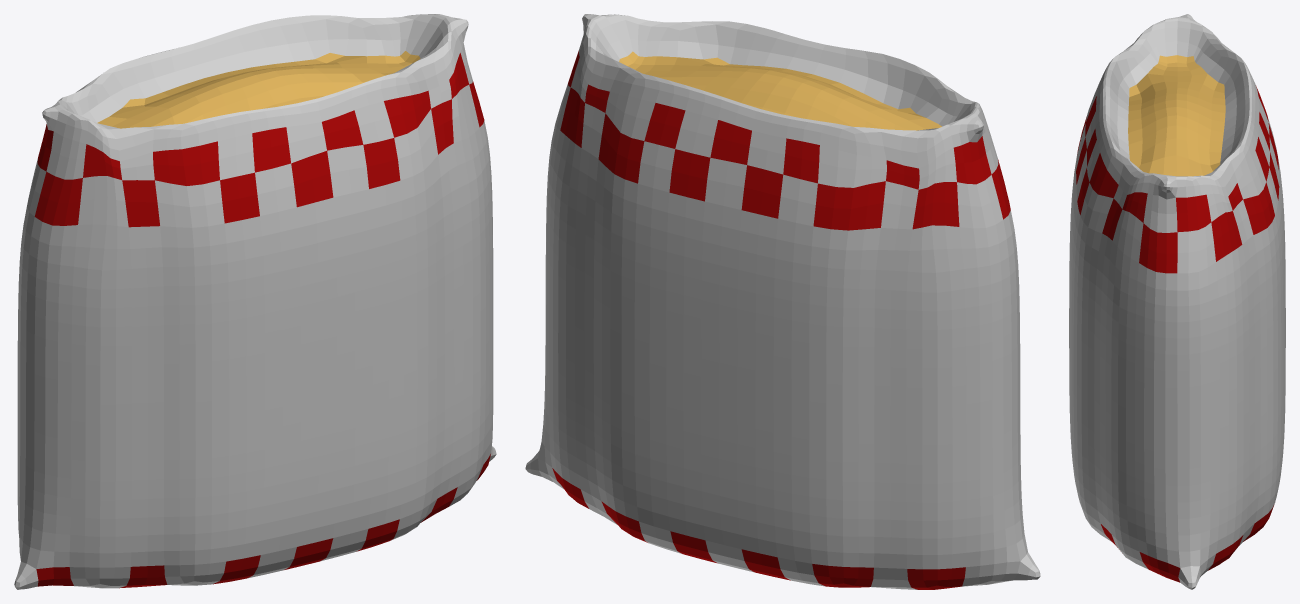
File: bag of seed.fbx
3 views of the same model, side by side, from view 1: azimuth 30°, elevation 25°; view 2: azimuth 150°, elevation 25°; view 3: azimuth 270°, elevation 25° (orthographic). The views are drawn at different scales.
Parts seen in each view (by area): view 1: bagofseed; view 2: bagofseed; view 3: bagofseed.
Boxes of the visible parts, x1,y1,x2,y2 form: bagofseed: [14, 14, 496, 589]; bagofseed: [525, 14, 1040, 589]; bagofseed: [1069, 14, 1285, 589].
Size of the model in its own units: 280 by 259 by 124.
